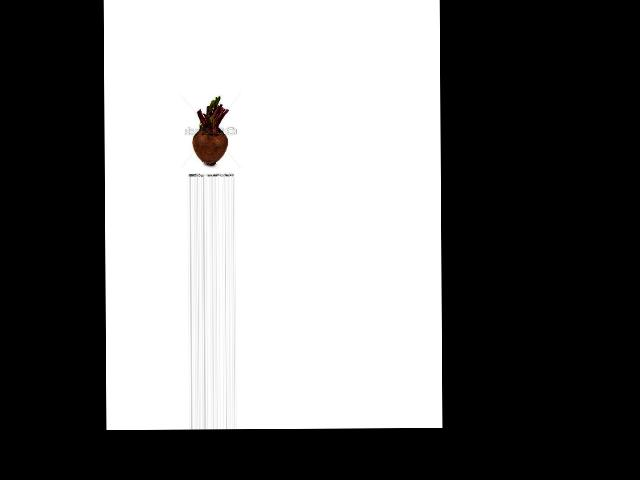beet: (191, 96, 228, 165)
